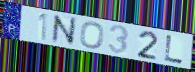1: (38, 13, 48, 42)
2: (136, 30, 159, 61)
3: (107, 25, 132, 56)
L: (163, 34, 185, 65)
N: (51, 13, 77, 46)
O: (78, 21, 106, 50)
